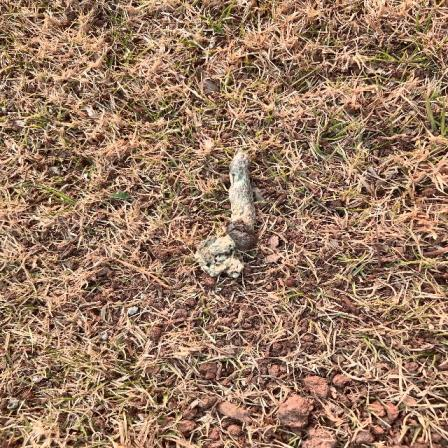dog-poop: (180, 143, 272, 289)
